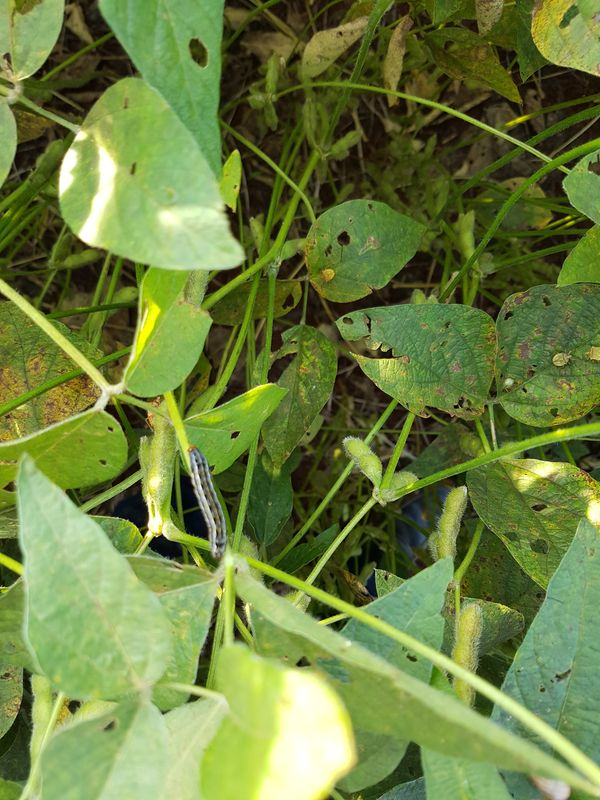Euschistus_heros_ninfa: (548, 345, 577, 370), (315, 264, 340, 286)
Spodoptera_albula: (166, 438, 261, 564)
